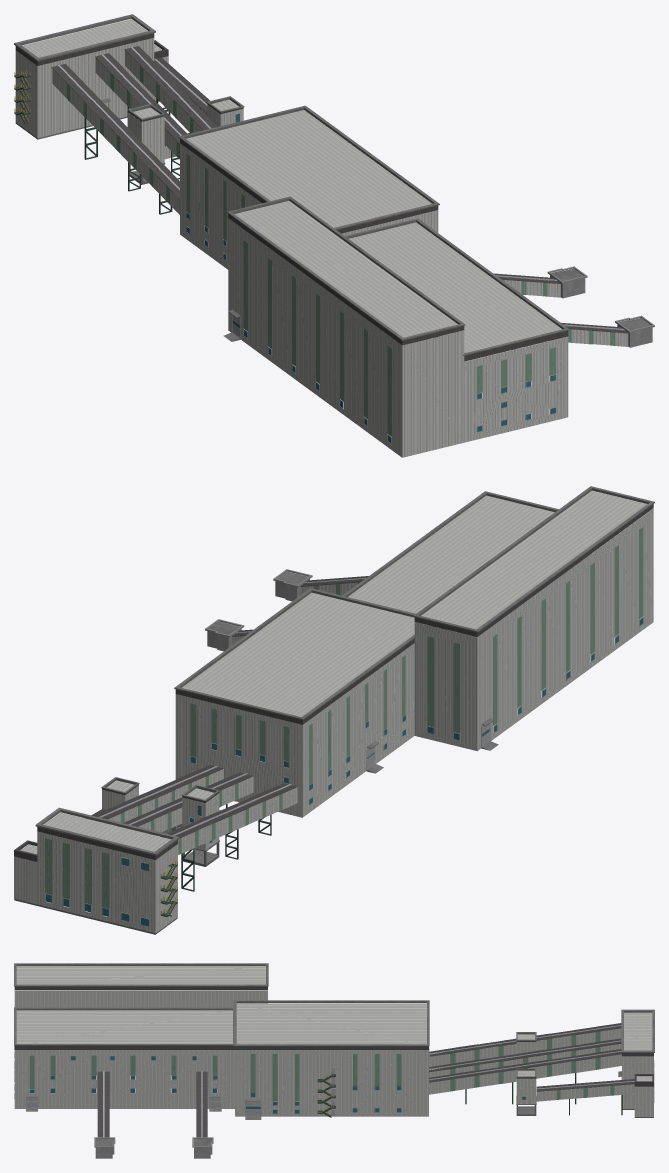
File: 选矿车间.glb
The picture shows the model from 3 angles, top to bottom: view 1: azimuth 30°, elevation 25°; view 2: azimuth 150°, elevation 25°; view 3: azimuth 270°, elevation 25°; orthographic projection. The views are drawn at different scales.
Parts seen in each view (by area): view 1: 选矿车间00, 选矿车间03, 选矿车间02, 选矿车间01, 选矿车间04, 选矿车间06, 选矿车间09, 选矿车间05; view 2: 选矿车间00, 选矿车间01, 选矿车间02, 选矿车间03, 选矿车间04, 选矿车间05, 选矿车间06, 选矿车间09; view 3: 选矿车间00, 选矿车间03, 选矿车间02, 选矿车间01, 选矿车间04, 选矿车间05, 选矿车间06, 选矿车间07.
Part boxes in pixels (bbox=[...]): 选矿车间00: bbox=[15, 19, 628, 457]; 选矿车间03: bbox=[15, 33, 628, 361]; 选矿车间02: bbox=[14, 14, 650, 355]; 选矿车间01: bbox=[67, 66, 614, 436]; 选矿车间04: bbox=[58, 47, 624, 444]; 选矿车间06: bbox=[547, 266, 654, 347]; 选矿车间09: bbox=[14, 73, 179, 214]; 选矿车间05: bbox=[186, 113, 555, 442]; 选矿车间00: bbox=[14, 490, 653, 933]; 选矿车间01: bbox=[45, 527, 643, 908]; 选矿车间02: bbox=[14, 486, 654, 934]; 选矿车间03: bbox=[14, 504, 653, 861]; 选矿车间04: bbox=[45, 578, 643, 927]; 选矿车间05: bbox=[46, 617, 642, 926]; 选矿车间06: bbox=[205, 569, 312, 651]; 选矿车间09: bbox=[160, 804, 271, 916]; 选矿车间00: bbox=[14, 966, 653, 1116]; 选矿车间03: bbox=[14, 986, 653, 1137]; 选矿车间02: bbox=[14, 963, 654, 1145]; 选矿车间01: bbox=[29, 1031, 614, 1101]; 选矿车间04: bbox=[14, 1025, 654, 1137]; 选矿车间05: bbox=[30, 1056, 525, 1113]; 选矿车间06: bbox=[94, 1137, 213, 1158]; 选矿车间07: bbox=[317, 1074, 335, 1117].
Size of the model in its own units: 71.96 by 25.86 by 173.
Materials: 9 (9 with a texture image).
